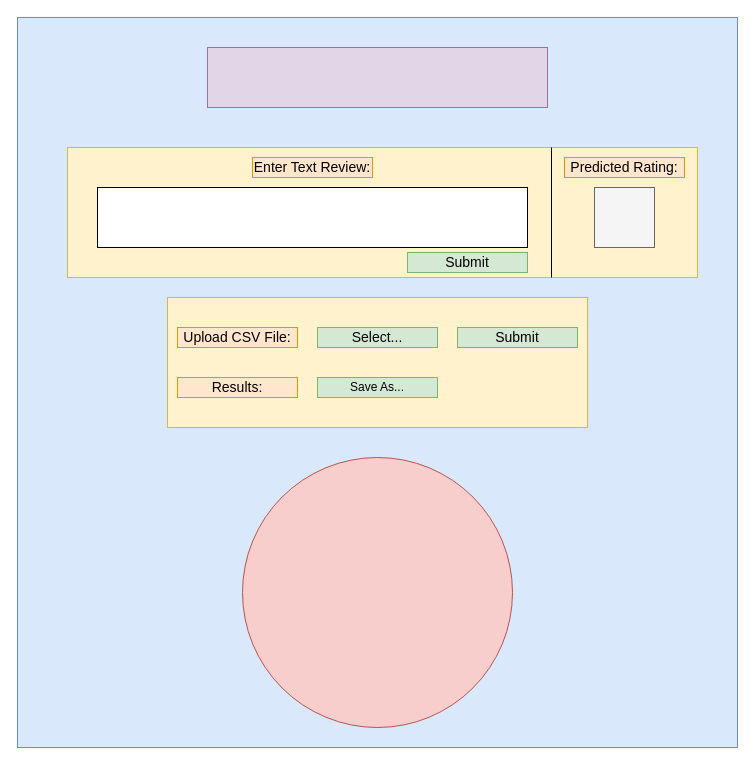
Image size: 755x765. Some labels were removed from this diagram. Here are the shapes that lost their labels. From the top down, the centre of each, then its label:
point 377,77: Text Review Interpretation Application
point 377,592: *Company Logo*
